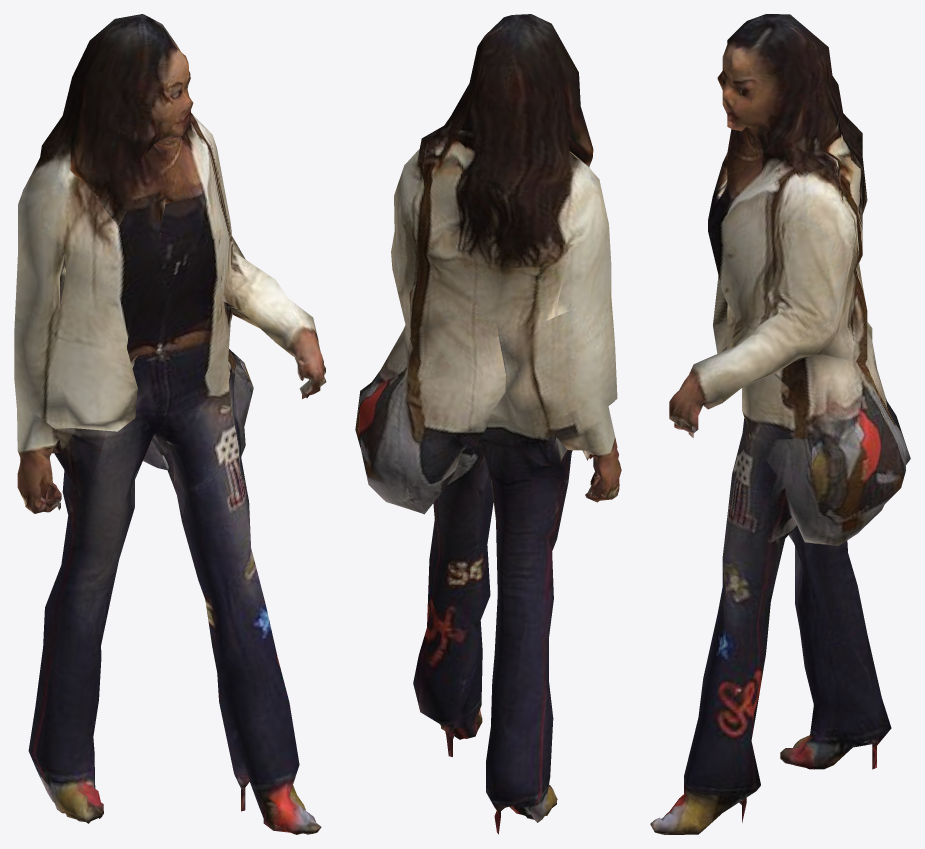
Rendered from casual9.obj.
3 views of the same model, side by side, from view 1: azimuth 30°, elevation 25°; view 2: azimuth 150°, elevation 25°; view 3: azimuth 270°, elevation 25° (orthographic). The views are drawn at different scales.
Visible parts, largest first — view 1: lwpg0005_; view 2: lwpg0005_; view 3: lwpg0005_.
Part boxes in pixels (x1,y1,x2,y2): lwpg0005_: [14, 14, 326, 834]; lwpg0005_: [355, 14, 621, 834]; lwpg0005_: [650, 14, 910, 834].
Size of the model in its own units: 0.57 by 1.75 by 0.54.
Materials: 1 (1 with a texture image).
